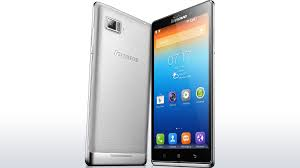lenovo: (80, 1, 152, 167), (145, 1, 217, 166)
